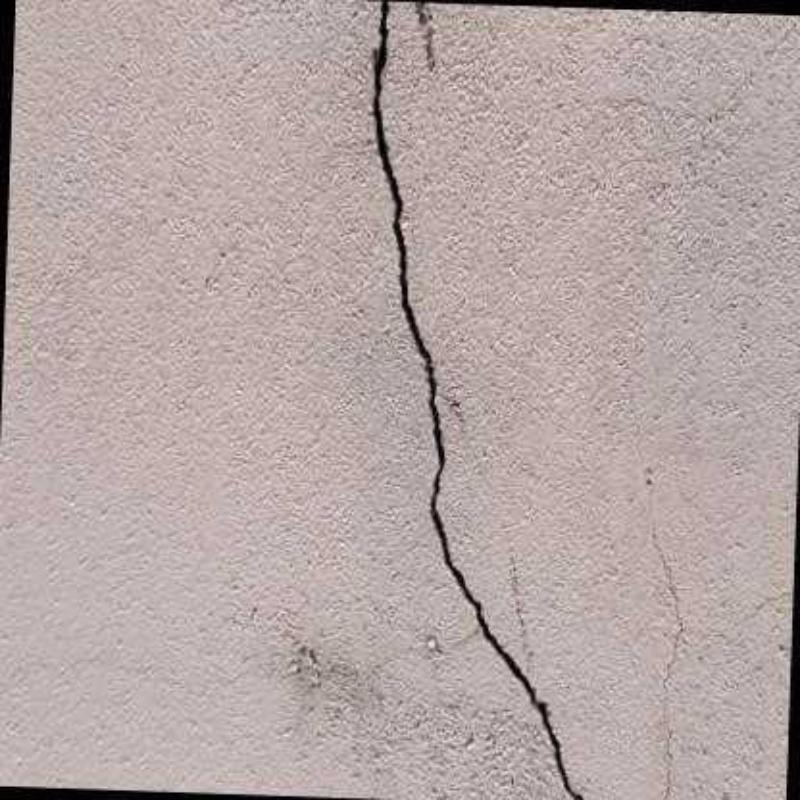pothole: (371, 0, 582, 798), (650, 512, 683, 798)
